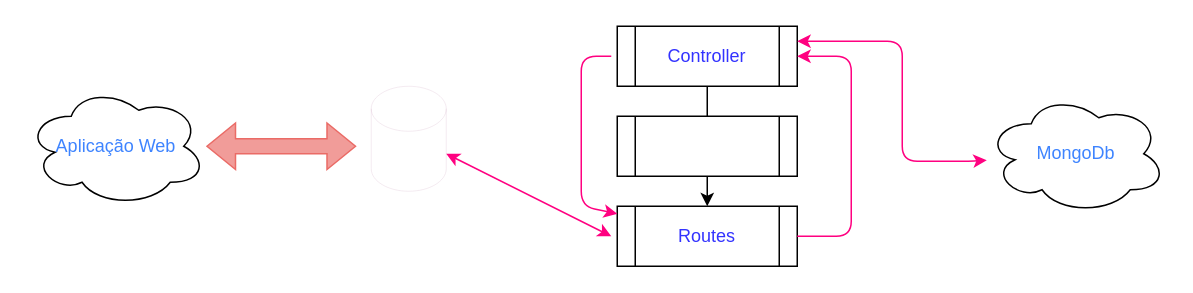
This 1193x293 diagram has some shape labels left out. The shapes that lost their labels are listed below. From the top down, each one's centre as x and y in pixels, then its label:
At point (408, 138): "app.js".
At point (706, 145): "Models".
